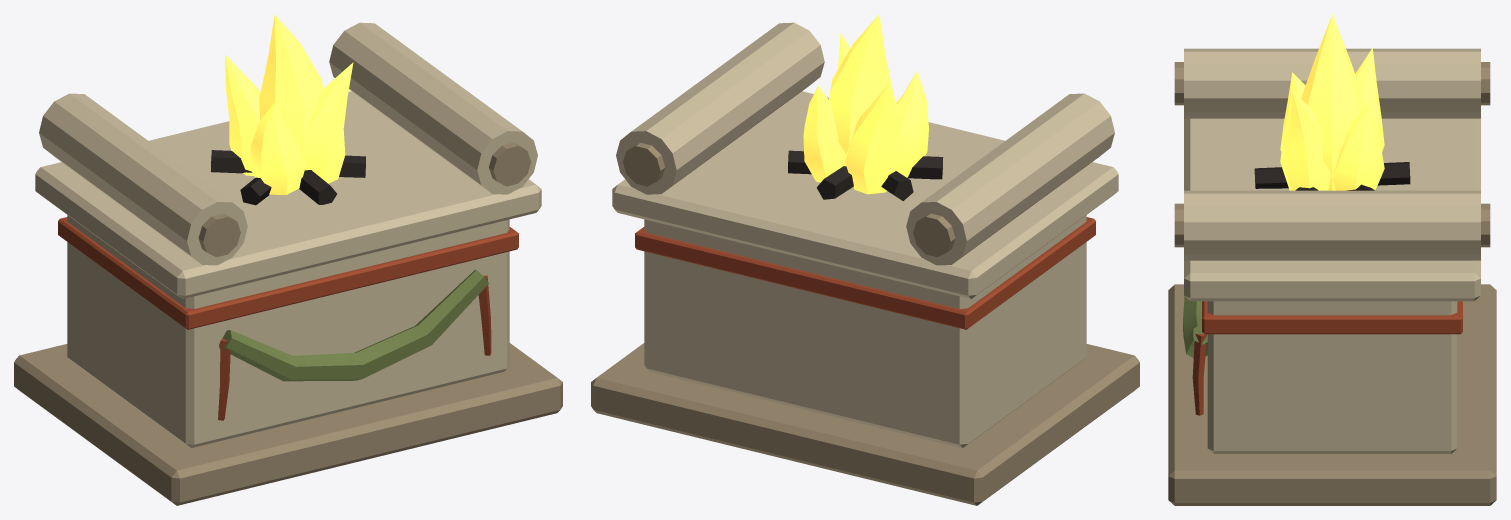
Rendered from altar.glb.
3 views of the same model, side by side, from view 1: azimuth 30°, elevation 25°; view 2: azimuth 150°, elevation 25°; view 3: azimuth 270°, elevation 25° (orthographic).
Parts seen in each view (by area): view 1: altar; view 2: altar; view 3: altar.
Part boxes in pixels (left/top/right/bottom): altar: left=14, top=14, right=562, bottom=505; altar: left=591, top=14, right=1139, bottom=505; altar: left=1168, top=14, right=1496, bottom=505.
Bounding box in the file's own units: 0.58 × 0.554 × 0.42.
